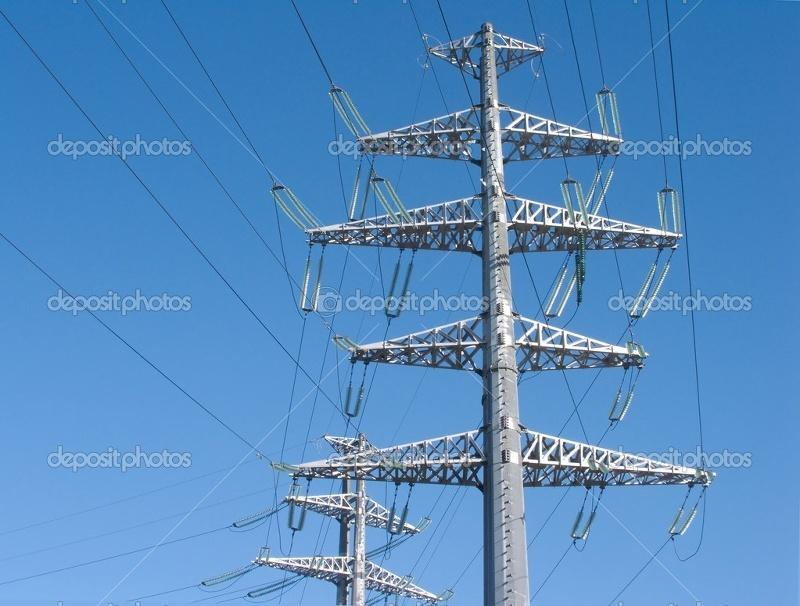power_tower: (330, 20, 707, 600), (274, 414, 434, 601)
